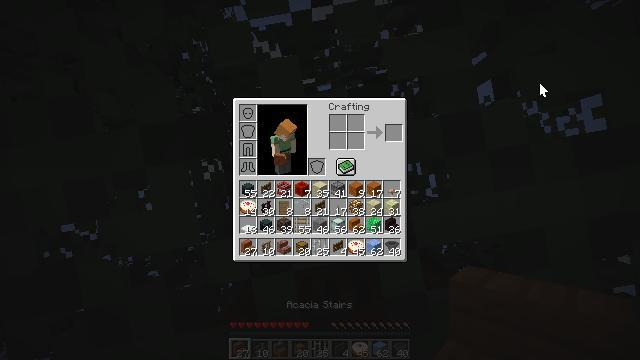cursor: (539, 82, 549, 98)
